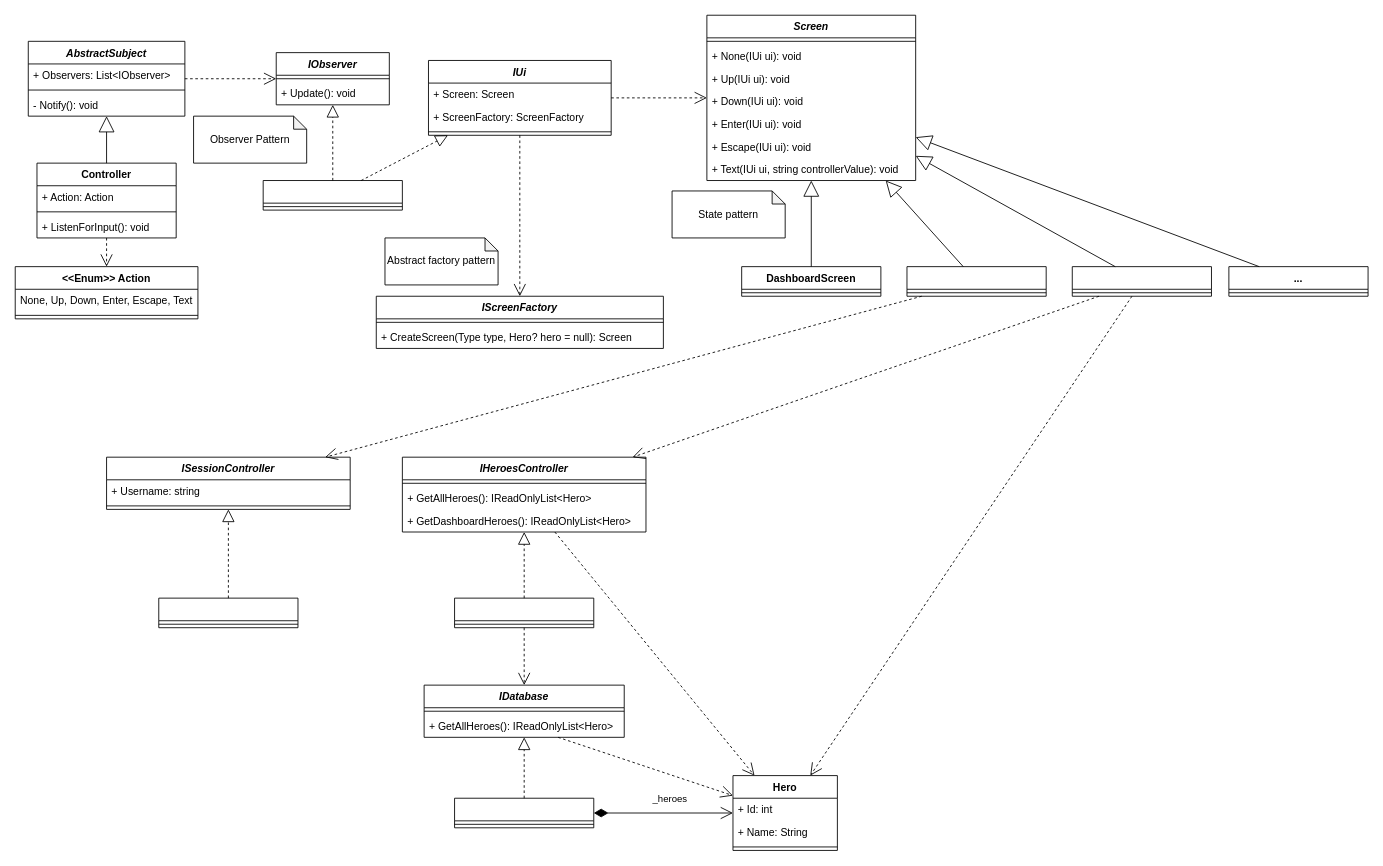
Image size: 1383x866. Some labels were removed from this diagram. Each missing label, with the centre of its shape:
"HeroesContainer" belongs at point 524,812.
"HeroesController" belongs at point 524,612.
"HeroesListScreen" belongs at point 1141,281.
"LoginScreen" belongs at point 976,281.
"SessionController" belongs at point 228,612.
"Ui" belongs at point 332,195.
